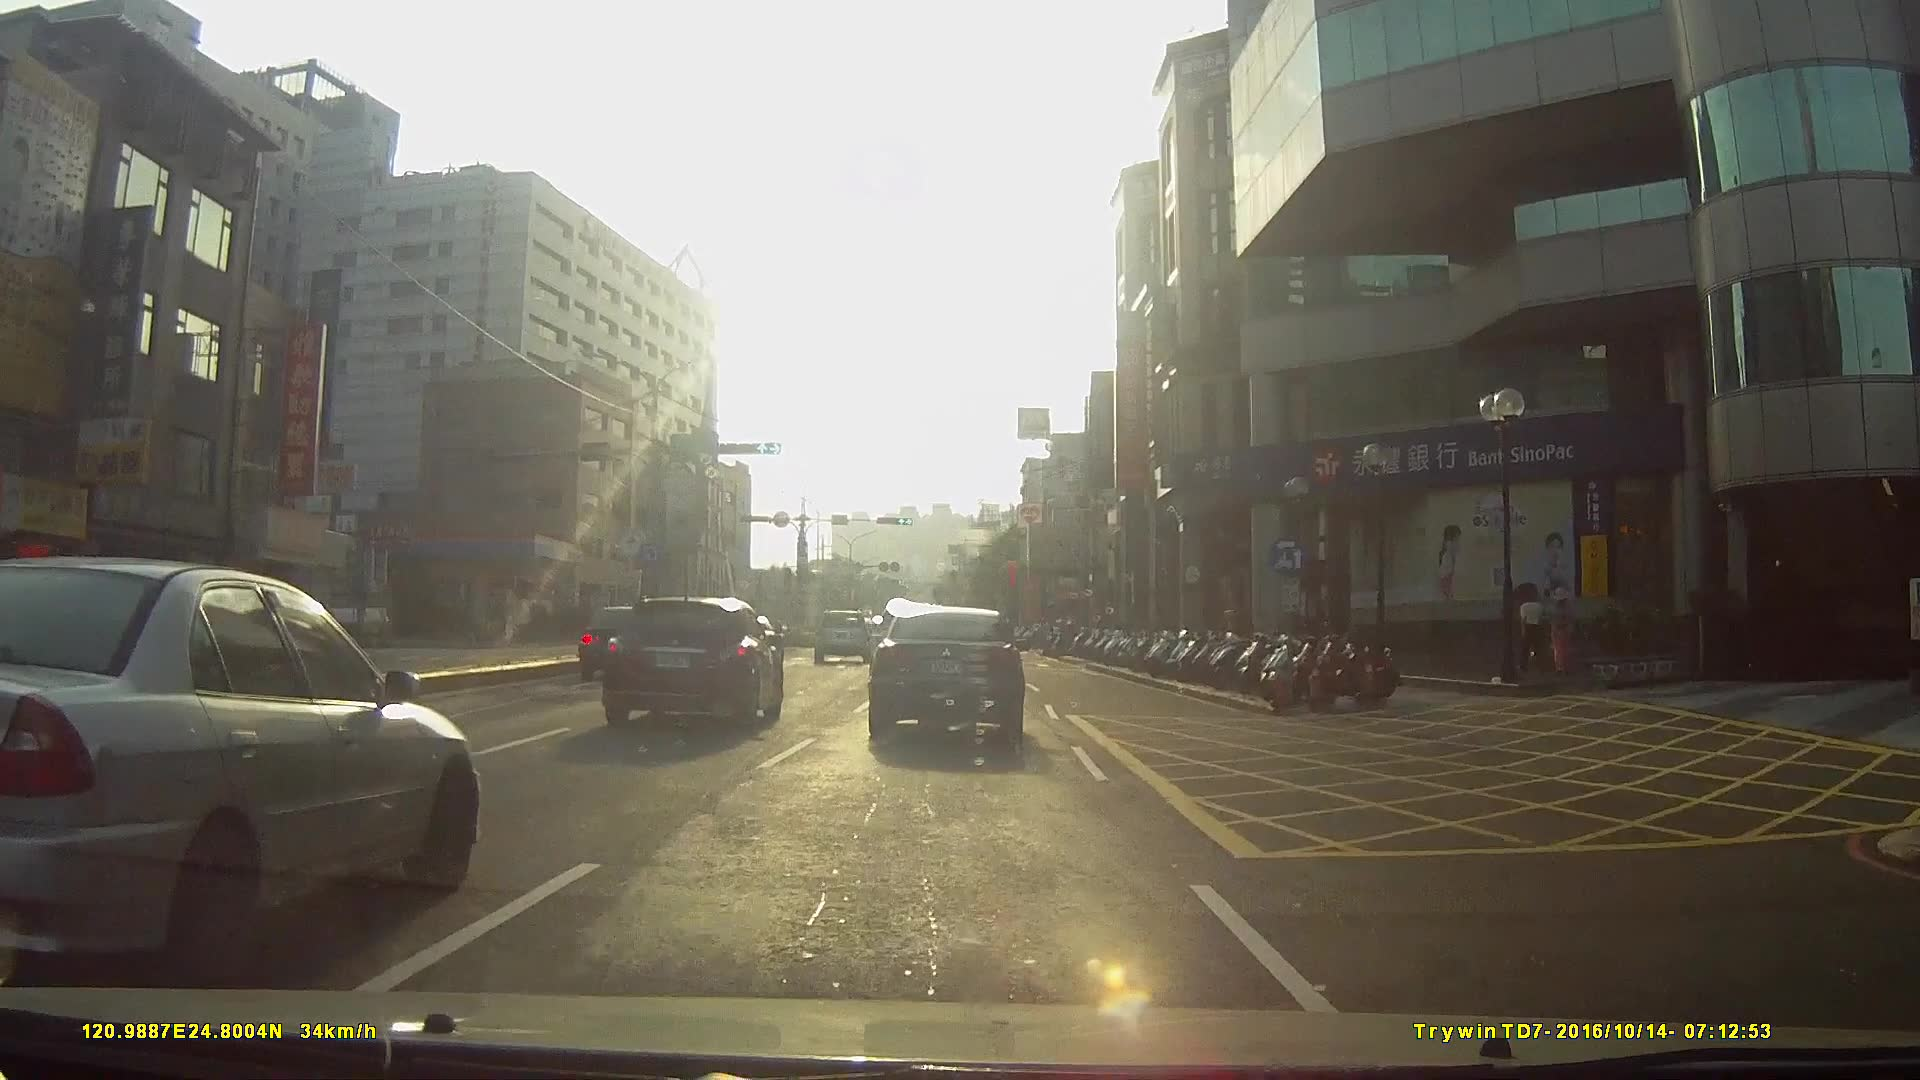pedestrian: (1546, 584, 1585, 683), (1515, 584, 1554, 675)
vehicle: (0, 553, 470, 997), (596, 591, 779, 730), (864, 608, 1023, 749), (583, 609, 687, 689), (806, 606, 868, 663)
